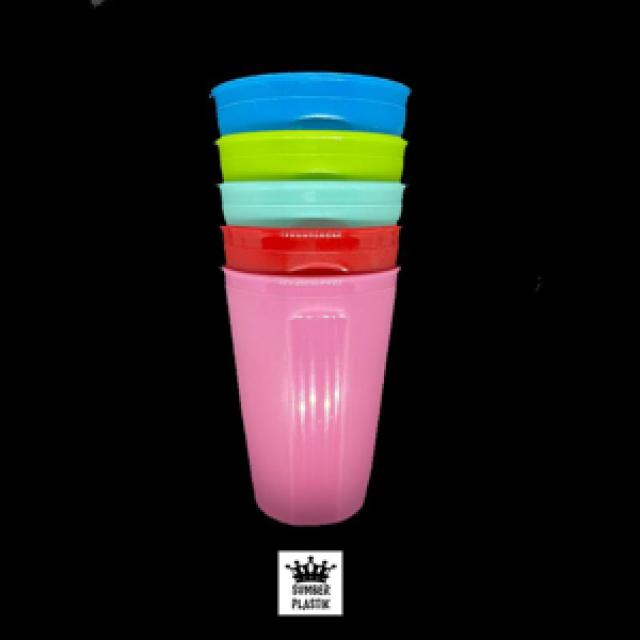plastic cup: (202, 70, 412, 529)
